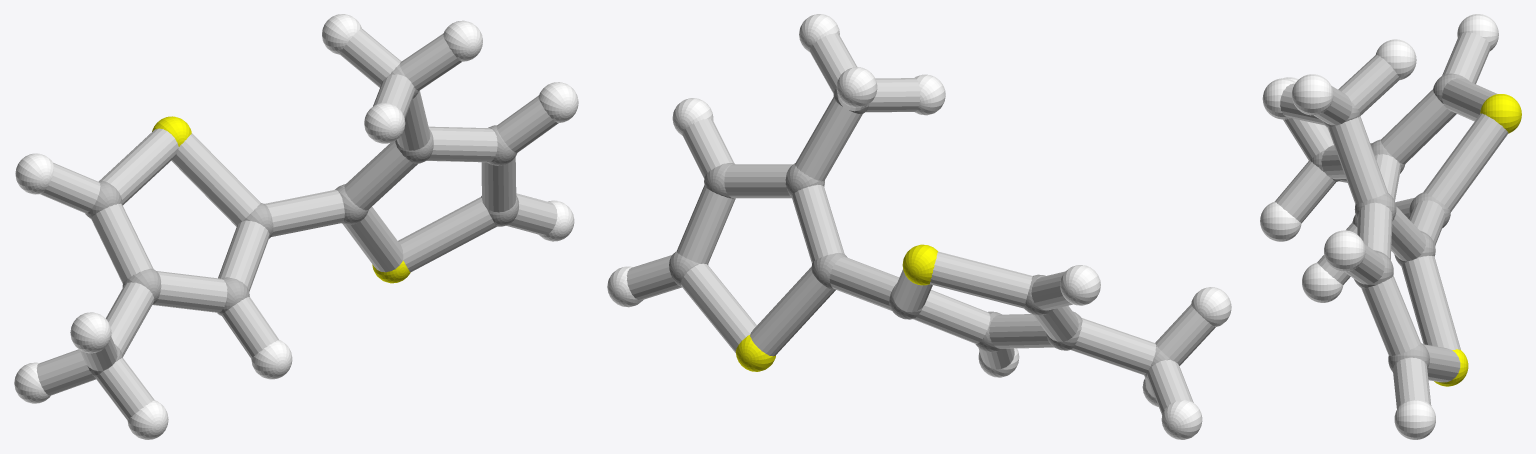
The model's file is Methylthiophene_Phi_15_Theta_70_Methylthiophene.glb.
The picture shows the model from 3 angles, left to right: view 1: azimuth 30°, elevation 25°; view 2: azimuth 150°, elevation 25°; view 3: azimuth 270°, elevation 25°; orthographic projection.
Parts seen in each view (by area): view 1: grp7965, grp3621, grp1, grp7241; view 2: grp7965, grp3621, grp1, grp7241; view 3: grp7965, grp3621, grp1, grp7241.
Boxes of the visible parts, bbox=[...] form: grp7965: bbox=[36, 28, 558, 420]; grp3621: bbox=[14, 14, 578, 439]; grp1: bbox=[85, 64, 518, 377]; grp7241: bbox=[152, 116, 410, 283]; grp7965: bbox=[626, 33, 1215, 414]; grp3621: bbox=[607, 14, 1231, 439]; grp1: bbox=[669, 88, 1170, 378]; grp7241: bbox=[736, 244, 937, 371]; grp7965: bbox=[1275, 32, 1508, 408]; grp3621: bbox=[1260, 14, 1498, 439]; grp1: bbox=[1310, 73, 1468, 371]; grp7241: bbox=[1434, 94, 1521, 386].
Size of the model in its own units: 9.65 by 5.2 by 3.77.
